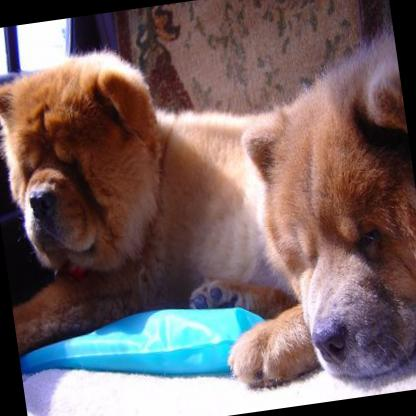chow: (0, 20, 296, 352), (181, 26, 416, 399)
